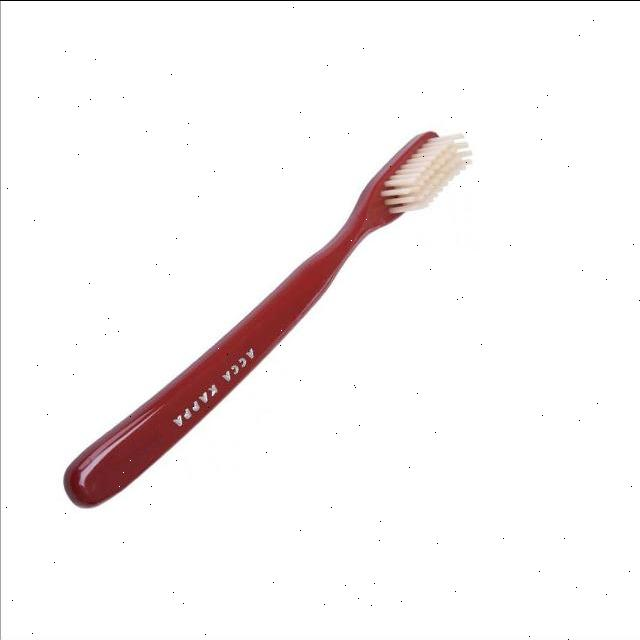toothbrush: (42, 110, 482, 532)
